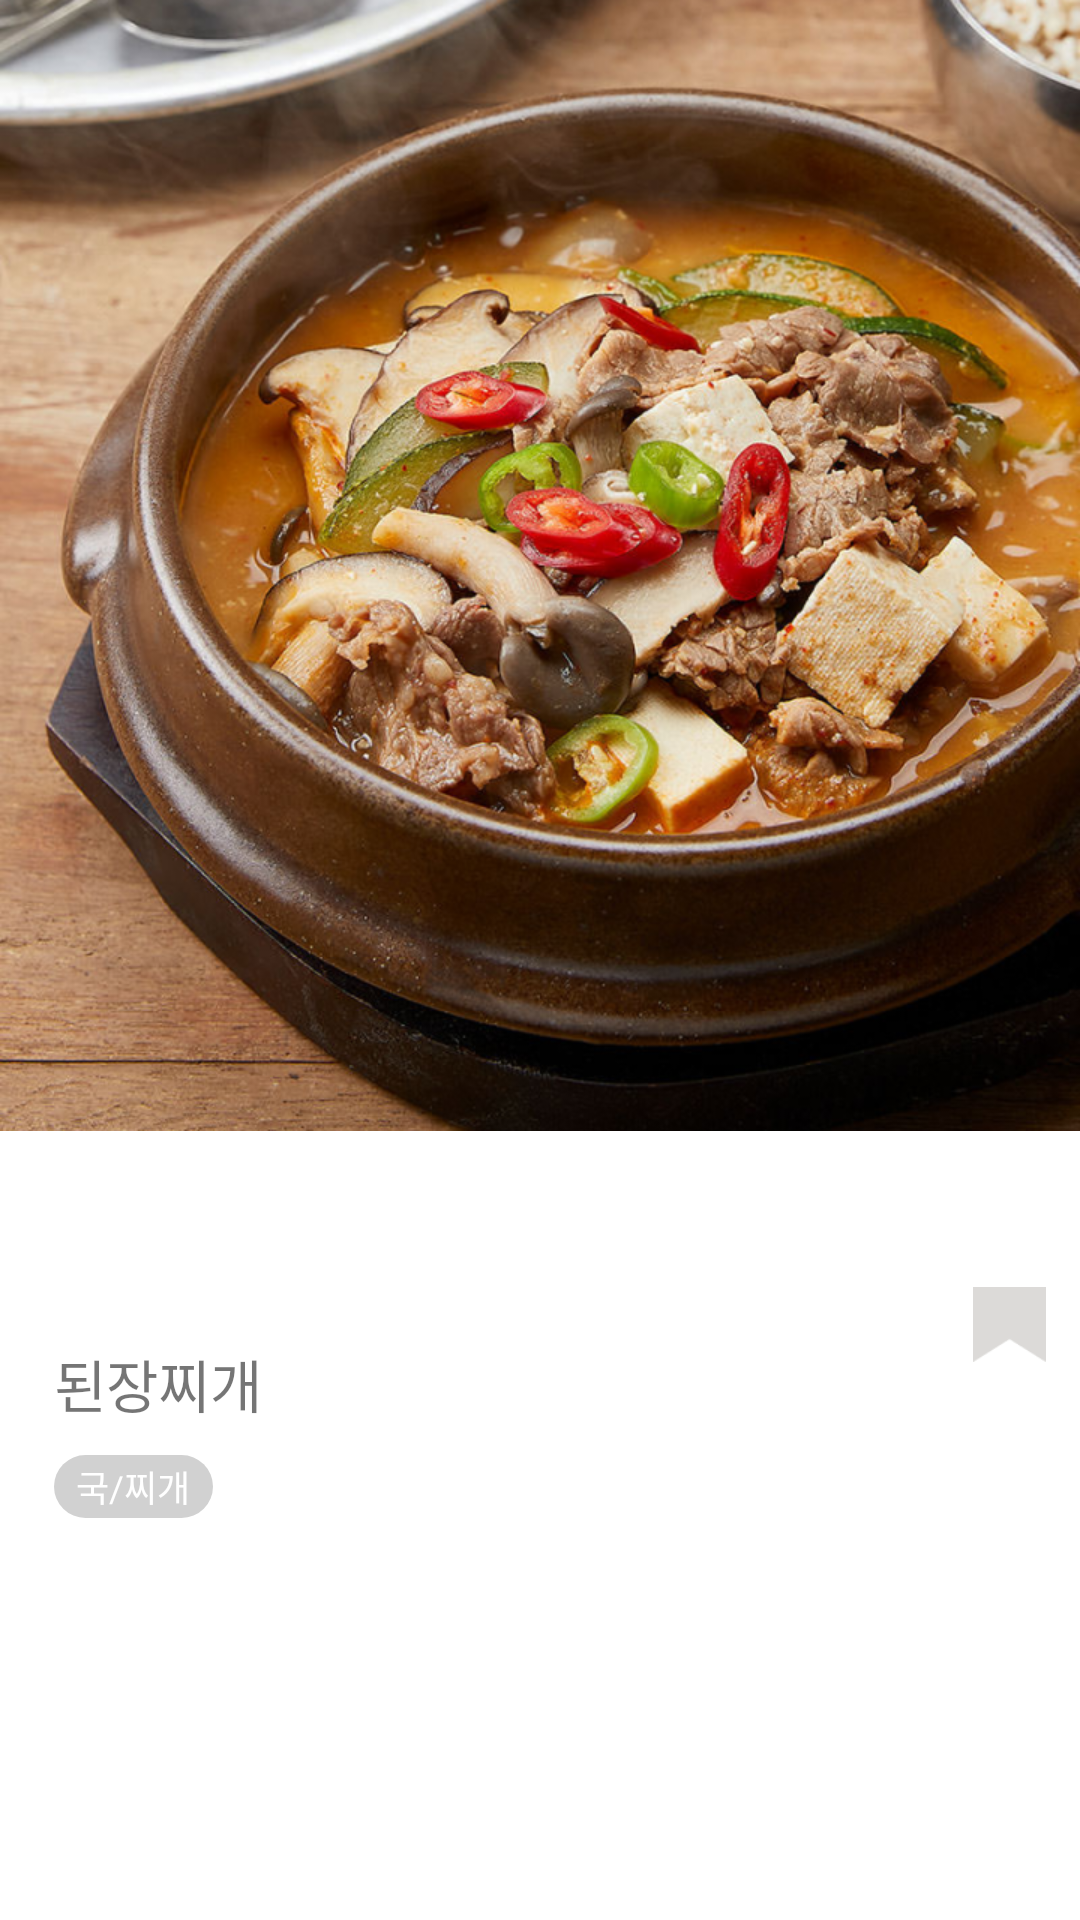

Where icons sit on this 1080px×1920px app screen, as (x1, y1, x2, y2):
bookmark: (973, 1287, 1046, 1362)
